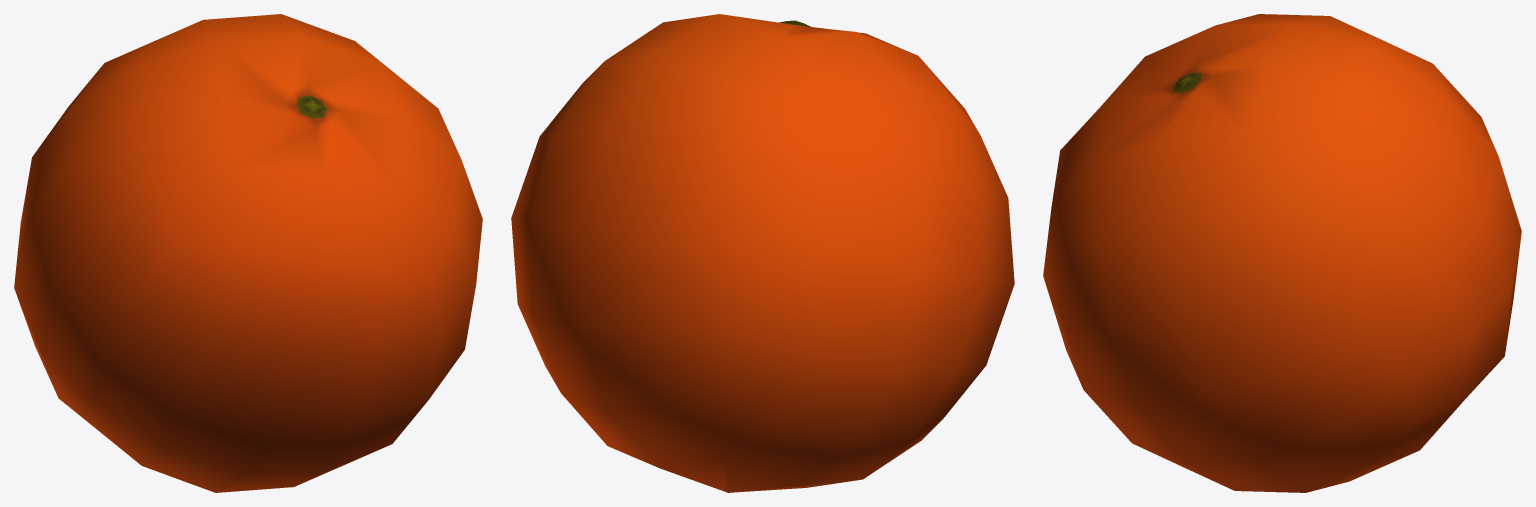
File: Orange_Regular.fbx
3 renders of one model, left to right at view 1: azimuth 30°, elevation 25°; view 2: azimuth 150°, elevation 25°; view 3: azimuth 270°, elevation 25°, orthographic. The views are drawn at different scales.
Parts seen in each view (by area): view 1: Orange_Regular; view 2: Orange_Regular; view 3: Orange_Regular.
Boxes of the visible parts, x1=… form: Orange_Regular: x1=14, y1=14, x2=482, y2=492; Orange_Regular: x1=511, y1=14, x2=1014, y2=492; Orange_Regular: x1=1043, y1=14, x2=1521, y2=492.
Size of the model in its own units: 23.05 by 23 by 23.09.
